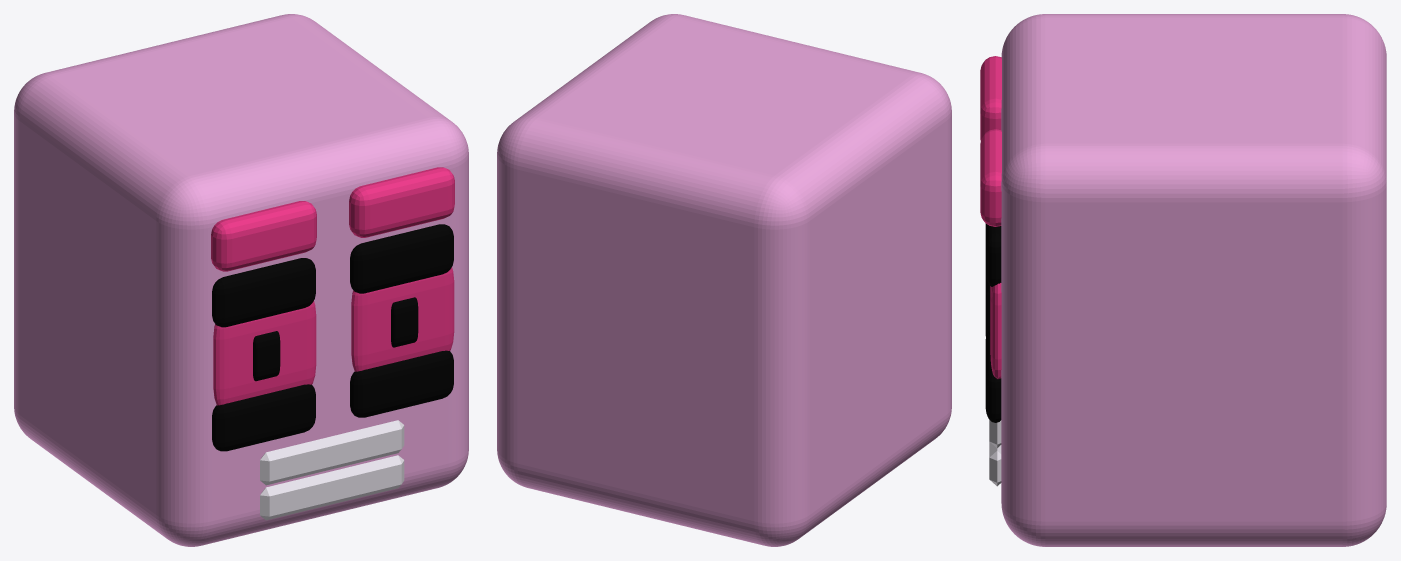
The model's file is RoBot_Head02.glb.
The picture shows the model from 3 angles, left to right: view 1: azimuth 30°, elevation 25°; view 2: azimuth 150°, elevation 25°; view 3: azimuth 270°, elevation 25°; orthographic projection. The views are drawn at different scales.
Parts seen in each view (by area): view 1: RoBot_Head.004; view 2: RoBot_Head.004; view 3: RoBot_Head.004.
Part boxes in pixels (x1=…): RoBot_Head.004: x1=14, y1=14, x2=468, y2=546; RoBot_Head.004: x1=497, y1=14, x2=951, y2=546; RoBot_Head.004: x1=980, y1=14, x2=1386, y2=546.
Bounding box in the file's own units: 0.7 × 0.8 × 0.7386.
